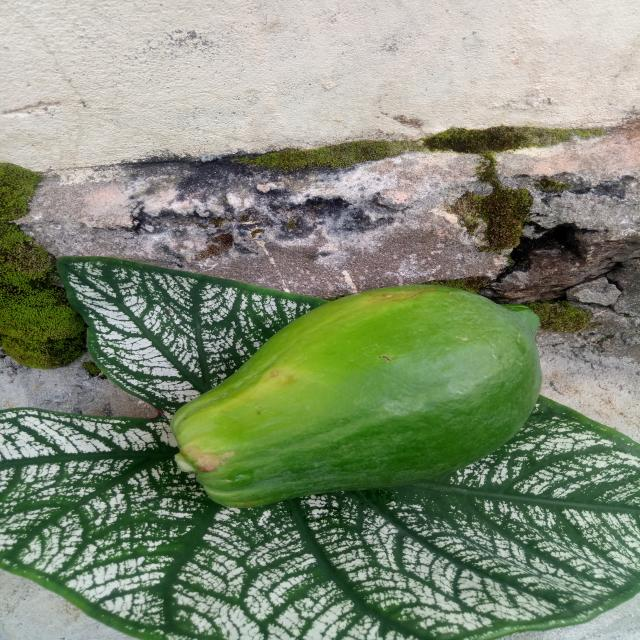Pepaya unrippen: (148, 280, 558, 508)
